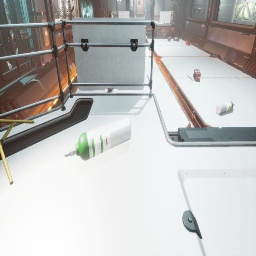0: (64, 116, 131, 161), (216, 101, 235, 114), (146, 36, 147, 39)
EmergencyPhone ,: (103, 9, 105, 14), (148, 0, 150, 2), (104, 11, 105, 12)
FireAlarm ,: (209, 7, 211, 12), (80, 7, 82, 11), (150, 1, 151, 5), (104, 16, 105, 18)
FireExtinguisher ]: (108, 89, 114, 92)
FirstAidBox ,: (193, 69, 201, 82), (174, 36, 179, 42), (186, 39, 190, 45)
NitrogenTank ,: (168, 37, 171, 42), (164, 23, 165, 24)
SafetySwitchPanel ,: (38, 18, 49, 47), (130, 0, 133, 10)
